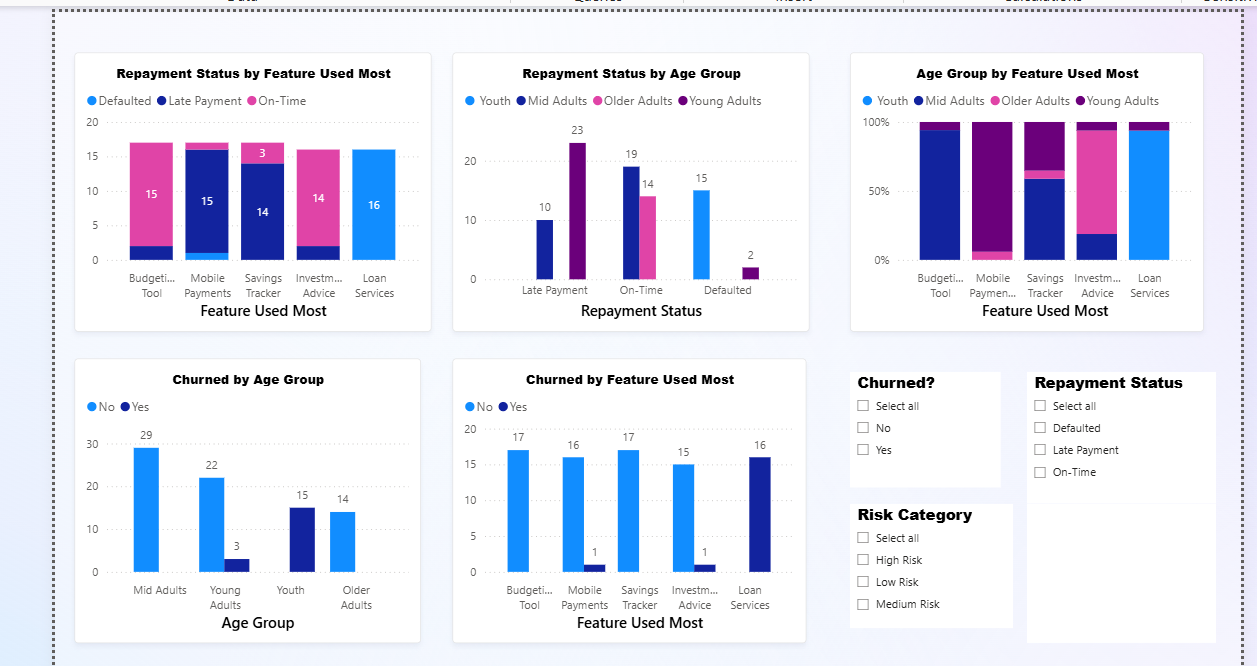

This screenshot's page, from the dashboard's own definition file:
{"tool":"powerbi","page":{"name":"Page 2","canvas":[1280,720],"ordinal":1},"visuals":[{"type":"clusteredColumnChart","title":"Churned by Feature Used Most ","fields":{"Category":["C3.Feature Used Most"],"Series":["C3.Churned?"],"Y":["CountNonNull(C3.Churned?)"]},"box":[429.1,374,382.1,307.7],"z":0},{"type":"columnChart","title":"Repayment Status by Feature Used Most","fields":{"Category":["C3.Feature Used Most"],"Series":["C3.Repayment Status"],"Y":["CountNonNull(C3.User ID)"]},"box":[21,43.7,385.4,301.2],"z":1000},{"type":"clusteredColumnChart","title":"Churned by Age Group","fields":{"Category":["C3.Age Group"],"Series":["C3.Churned?"],"Y":["CountNonNull(C3.Churned?)"]},"box":[21,374,374,307.7],"z":2000},{"type":"hundredPercentStackedColumnChart","title":"Age Group by Feature Used Most ","fields":{"Category":["C3.Feature Used Most"],"Series":["C3.Age Group"],"Y":["CountNonNull(C3.Age Group)"]},"box":[858.2,43.7,382.1,301.2],"z":3000},{"type":"clusteredColumnChart","title":"Repayment Status by Age Group","fields":{"Category":["C3.Repayment Status"],"Series":["C3.Age Group"],"Y":["CountNonNull(C3.Age Group)"]},"box":[429.1,43.7,385.4,301.2],"z":4000},{"type":"slicer","fields":{"Values":["C3.Churned?"]},"box":[858,389.3,162.5,124.7],"z":5000},{"type":"slicer","fields":{"Values":["C3.Risk Category"]},"box":[858,531,175.7,134.2],"z":6000},{"type":"slicer","fields":{"Values":["C3.Repayment Status"]},"box":[1048.8,389.3,204.1,141.7],"z":7000},{"type":"textbox","box":[1049,531,204,150],"z":8000}]}

Visuals, with their boxes on the page's 1280x720 design canvas (x1, y1, x2, y2). These are canvas units, not pixel positions in the 1257x666 screenshot, which may show the page scaled, cropped or inside an application window:
"Churned by Feature Used Most " clusteredColumnChart: box=[429, 374, 811, 682]
"Repayment Status by Feature Used Most" columnChart: box=[21, 44, 406, 345]
"Churned by Age Group" clusteredColumnChart: box=[21, 374, 395, 682]
"Age Group by Feature Used Most " hundredPercentStackedColumnChart: box=[858, 44, 1240, 345]
"Repayment Status by Age Group" clusteredColumnChart: box=[429, 44, 814, 345]
slicer - C3.Churned?: box=[858, 389, 1020, 514]
slicer - C3.Risk Category: box=[858, 531, 1034, 665]
slicer - C3.Repayment Status: box=[1049, 389, 1253, 531]
textbox: box=[1049, 531, 1253, 681]
